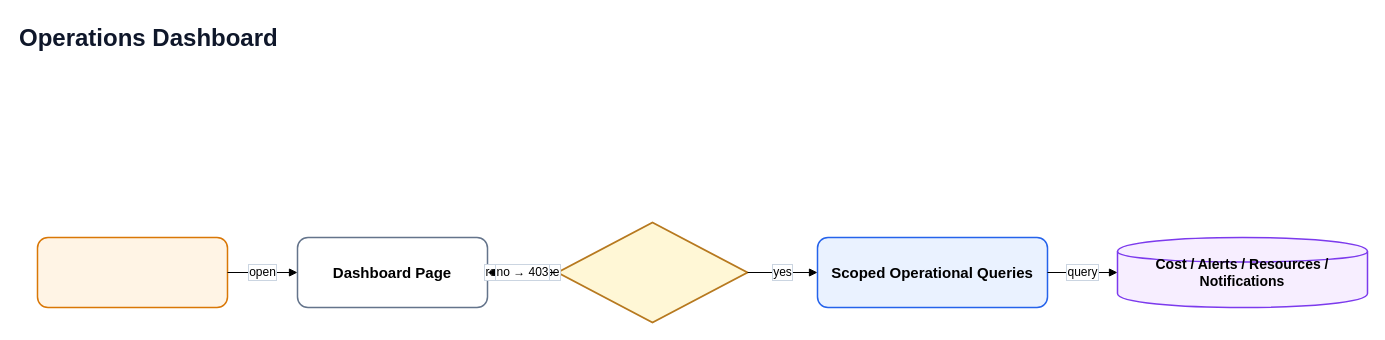
This 1385x340 diagram has some shape labels left out. Here are the shapes that lost their labels. From the top down, the centre of each, then its label:
point (132, 272): Authenticated User
point (652, 272): Authorized Scope?
